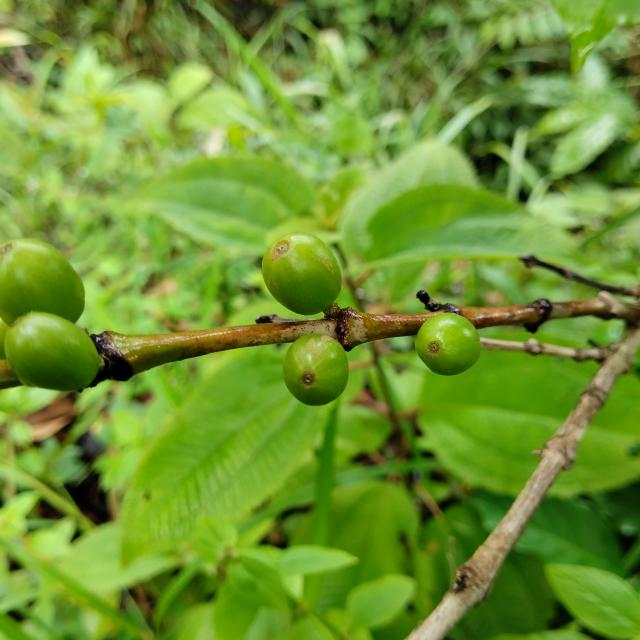green: (3, 312, 99, 391), (0, 238, 84, 325), (262, 232, 342, 315), (283, 334, 349, 406), (416, 313, 481, 376)
